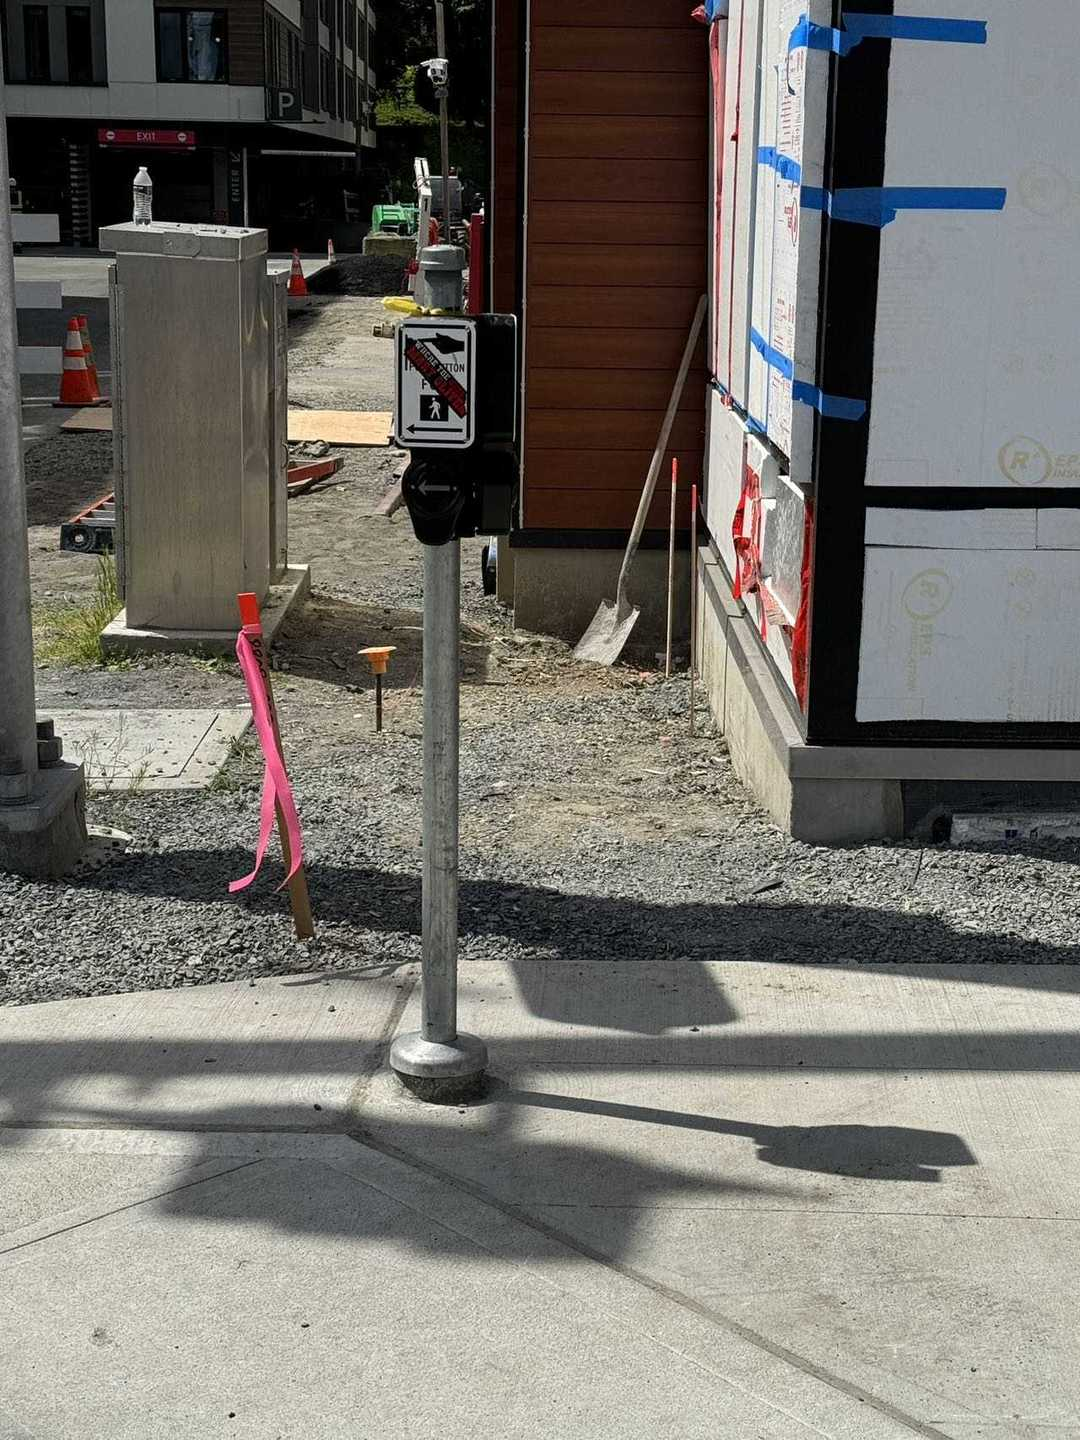ped_button: (388, 321, 487, 553)
